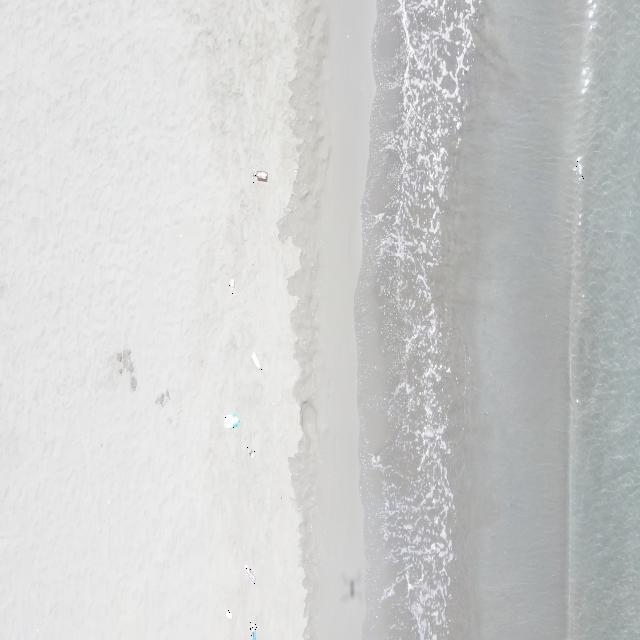Garbage: (243, 564, 255, 583), (223, 412, 238, 427), (253, 169, 267, 180), (248, 620, 256, 639), (252, 352, 260, 368), (227, 280, 233, 293), (248, 446, 255, 456), (224, 609, 231, 617)
